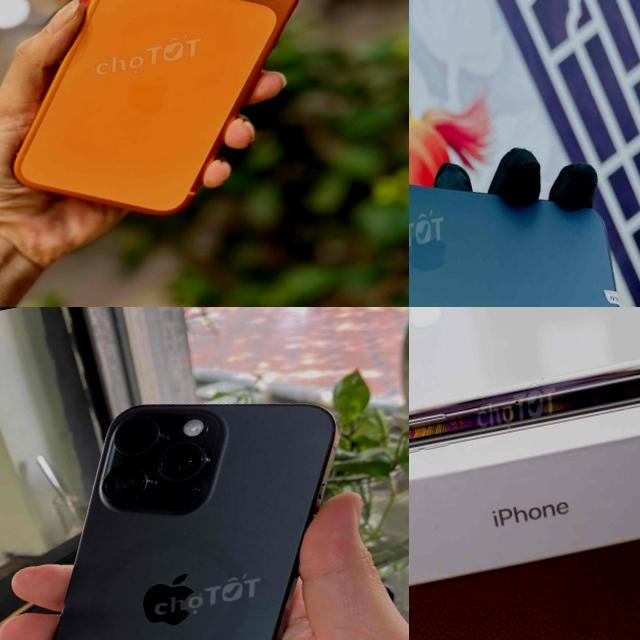gen_15: (0, 360, 409, 640), (409, 103, 640, 307)
gen_17: (0, 0, 388, 239)
gen_x_xs: (409, 307, 640, 506)
